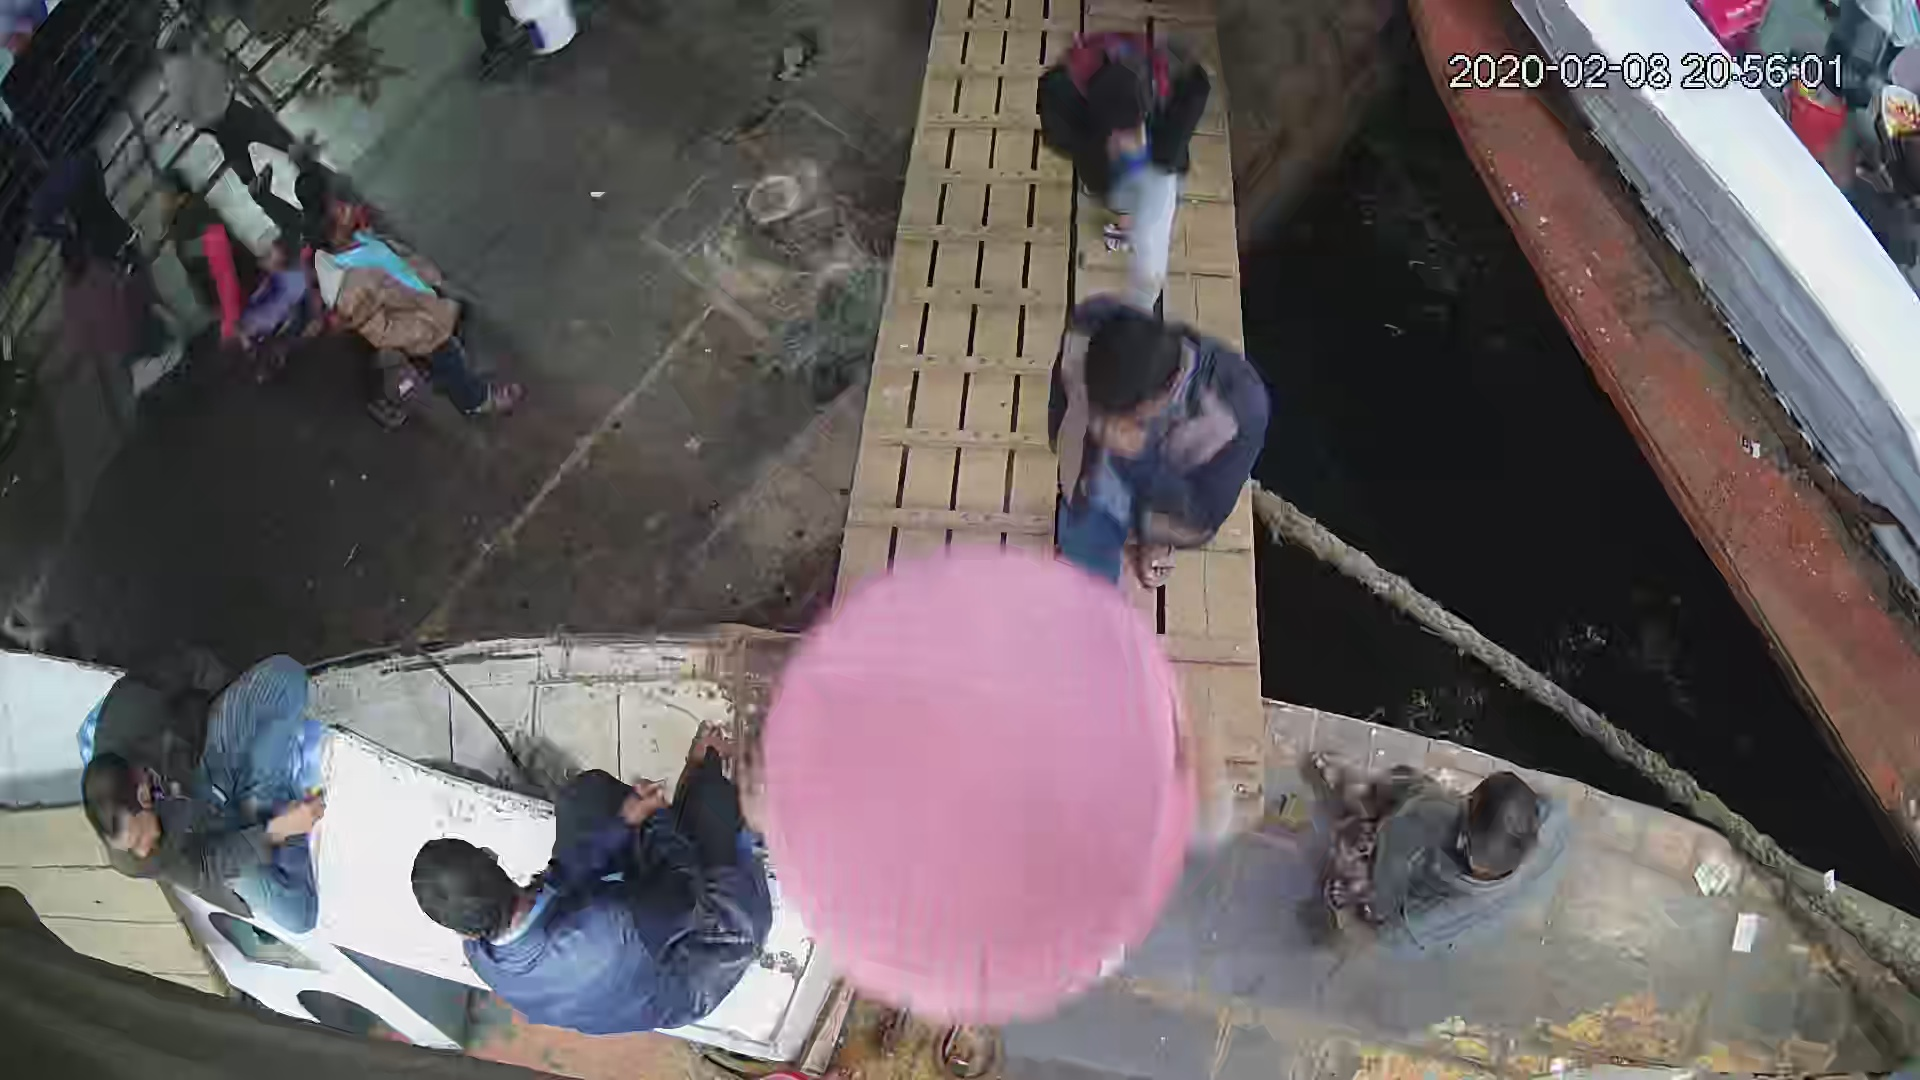person: (755, 532, 1194, 1027), (403, 713, 771, 1043), (1009, 285, 1275, 608), (70, 637, 331, 939), (1284, 732, 1577, 964), (1025, 26, 1223, 312), (307, 196, 526, 424), (139, 164, 318, 379), (154, 10, 304, 191), (55, 233, 189, 407)
